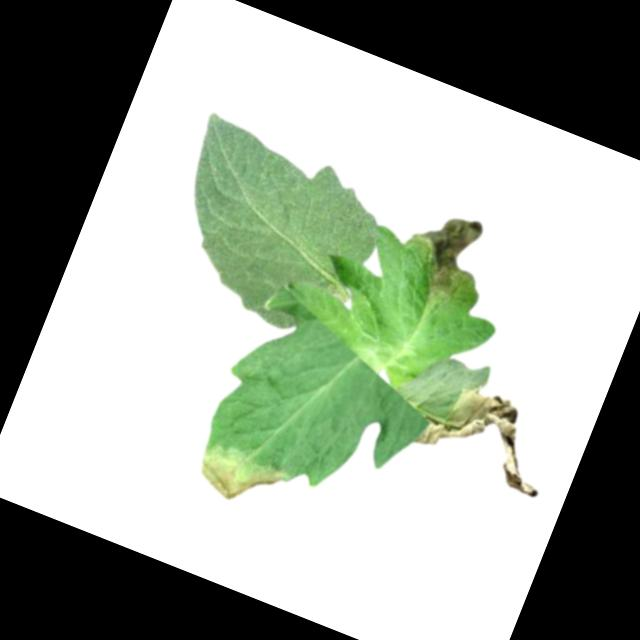Late_blight: (407, 369, 568, 499), (388, 198, 496, 313), (185, 432, 293, 517)
healthy: (143, 109, 401, 351)
